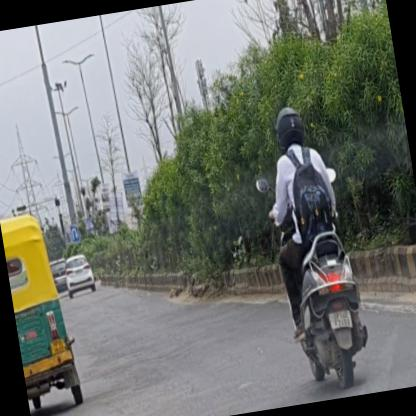car: (61, 252, 96, 298)
motorcycle: (242, 98, 376, 399)
